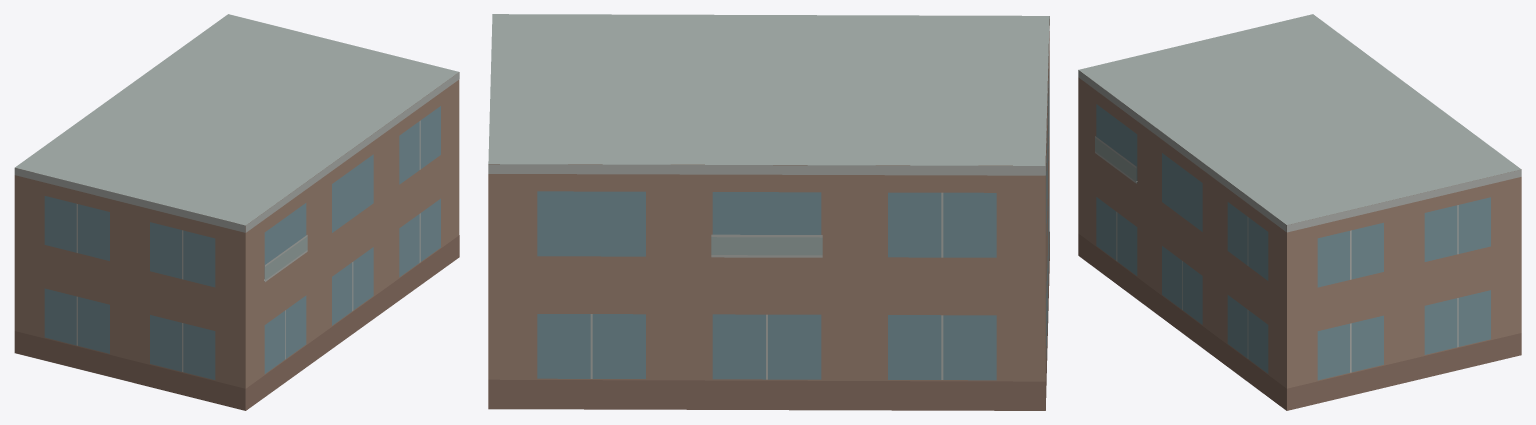
File: survey-upis-32694494.glb
The picture shows the model from 3 angles, left to right: view 1: azimuth 30°, elevation 25°; view 2: azimuth 150°, elevation 25°; view 3: azimuth 270°, elevation 25°; orthographic projection. The views are drawn at different scales.
Visible parts, largest first — view 1: survey-upis-32694494.tmp; view 2: survey-upis-32694494.tmp; view 3: survey-upis-32694494.tmp.
Part boxes in pixels (x1,y1,x2,y2): survey-upis-32694494.tmp: (14,14,459,410); survey-upis-32694494.tmp: (488,14,1049,410); survey-upis-32694494.tmp: (1078,14,1521,410).
Bounding box in the file's own units: 14.88 × 6.1 × 13.2.
